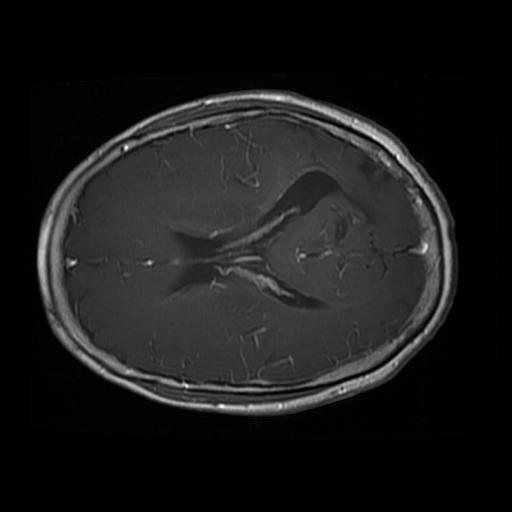glioma: (300, 128, 418, 250)
